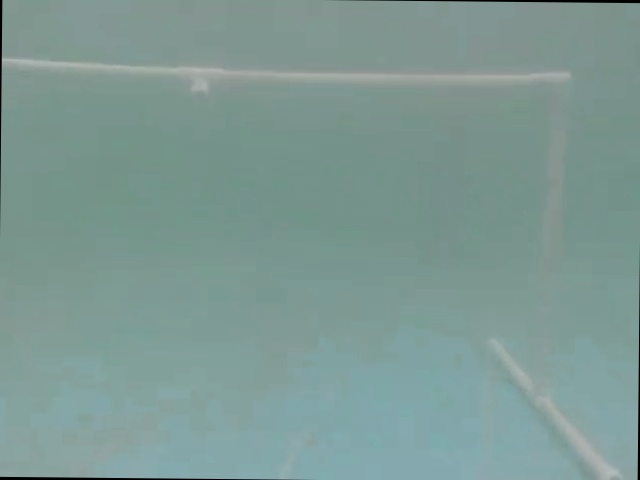gate: (6, 48, 616, 478)
